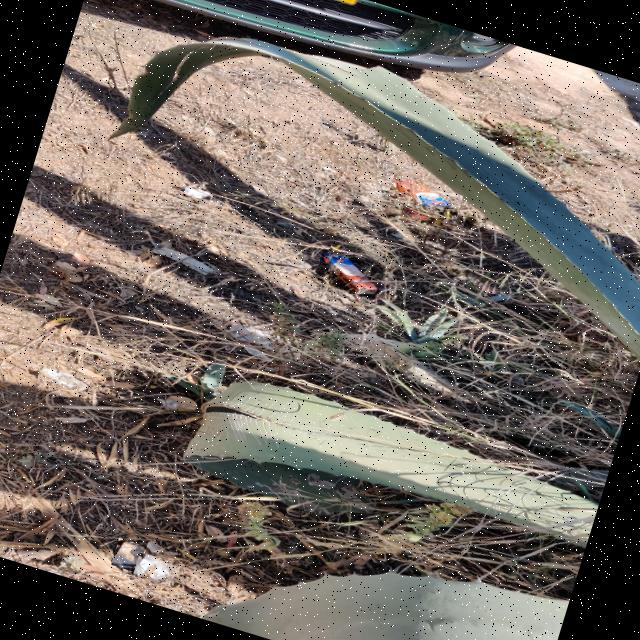Drink carton: (320, 253, 379, 295), (393, 180, 456, 215)
Other plastic: (39, 369, 88, 391), (112, 543, 145, 569)
Plastic straw: (330, 246, 342, 252)
Unlabeled litter: (153, 246, 211, 275), (135, 554, 169, 580), (402, 207, 440, 228), (185, 187, 210, 200)
